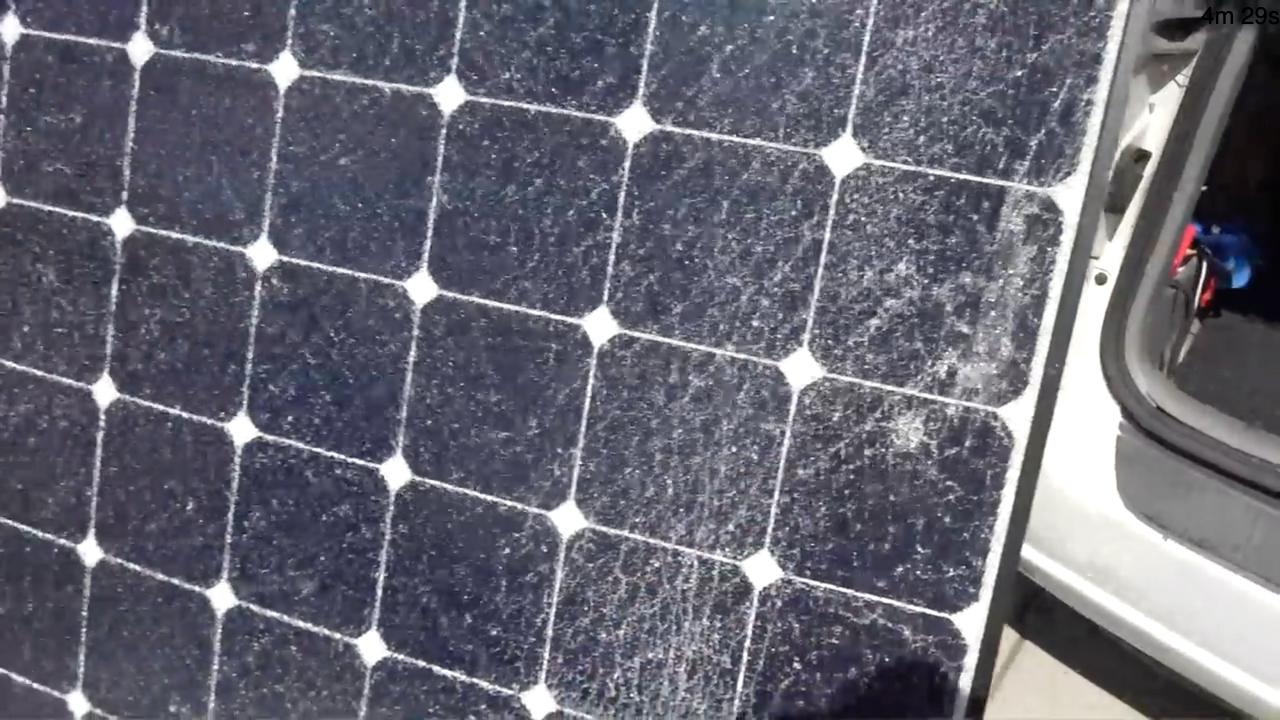Crack: (496, 11, 845, 720), (822, 0, 1098, 484)
